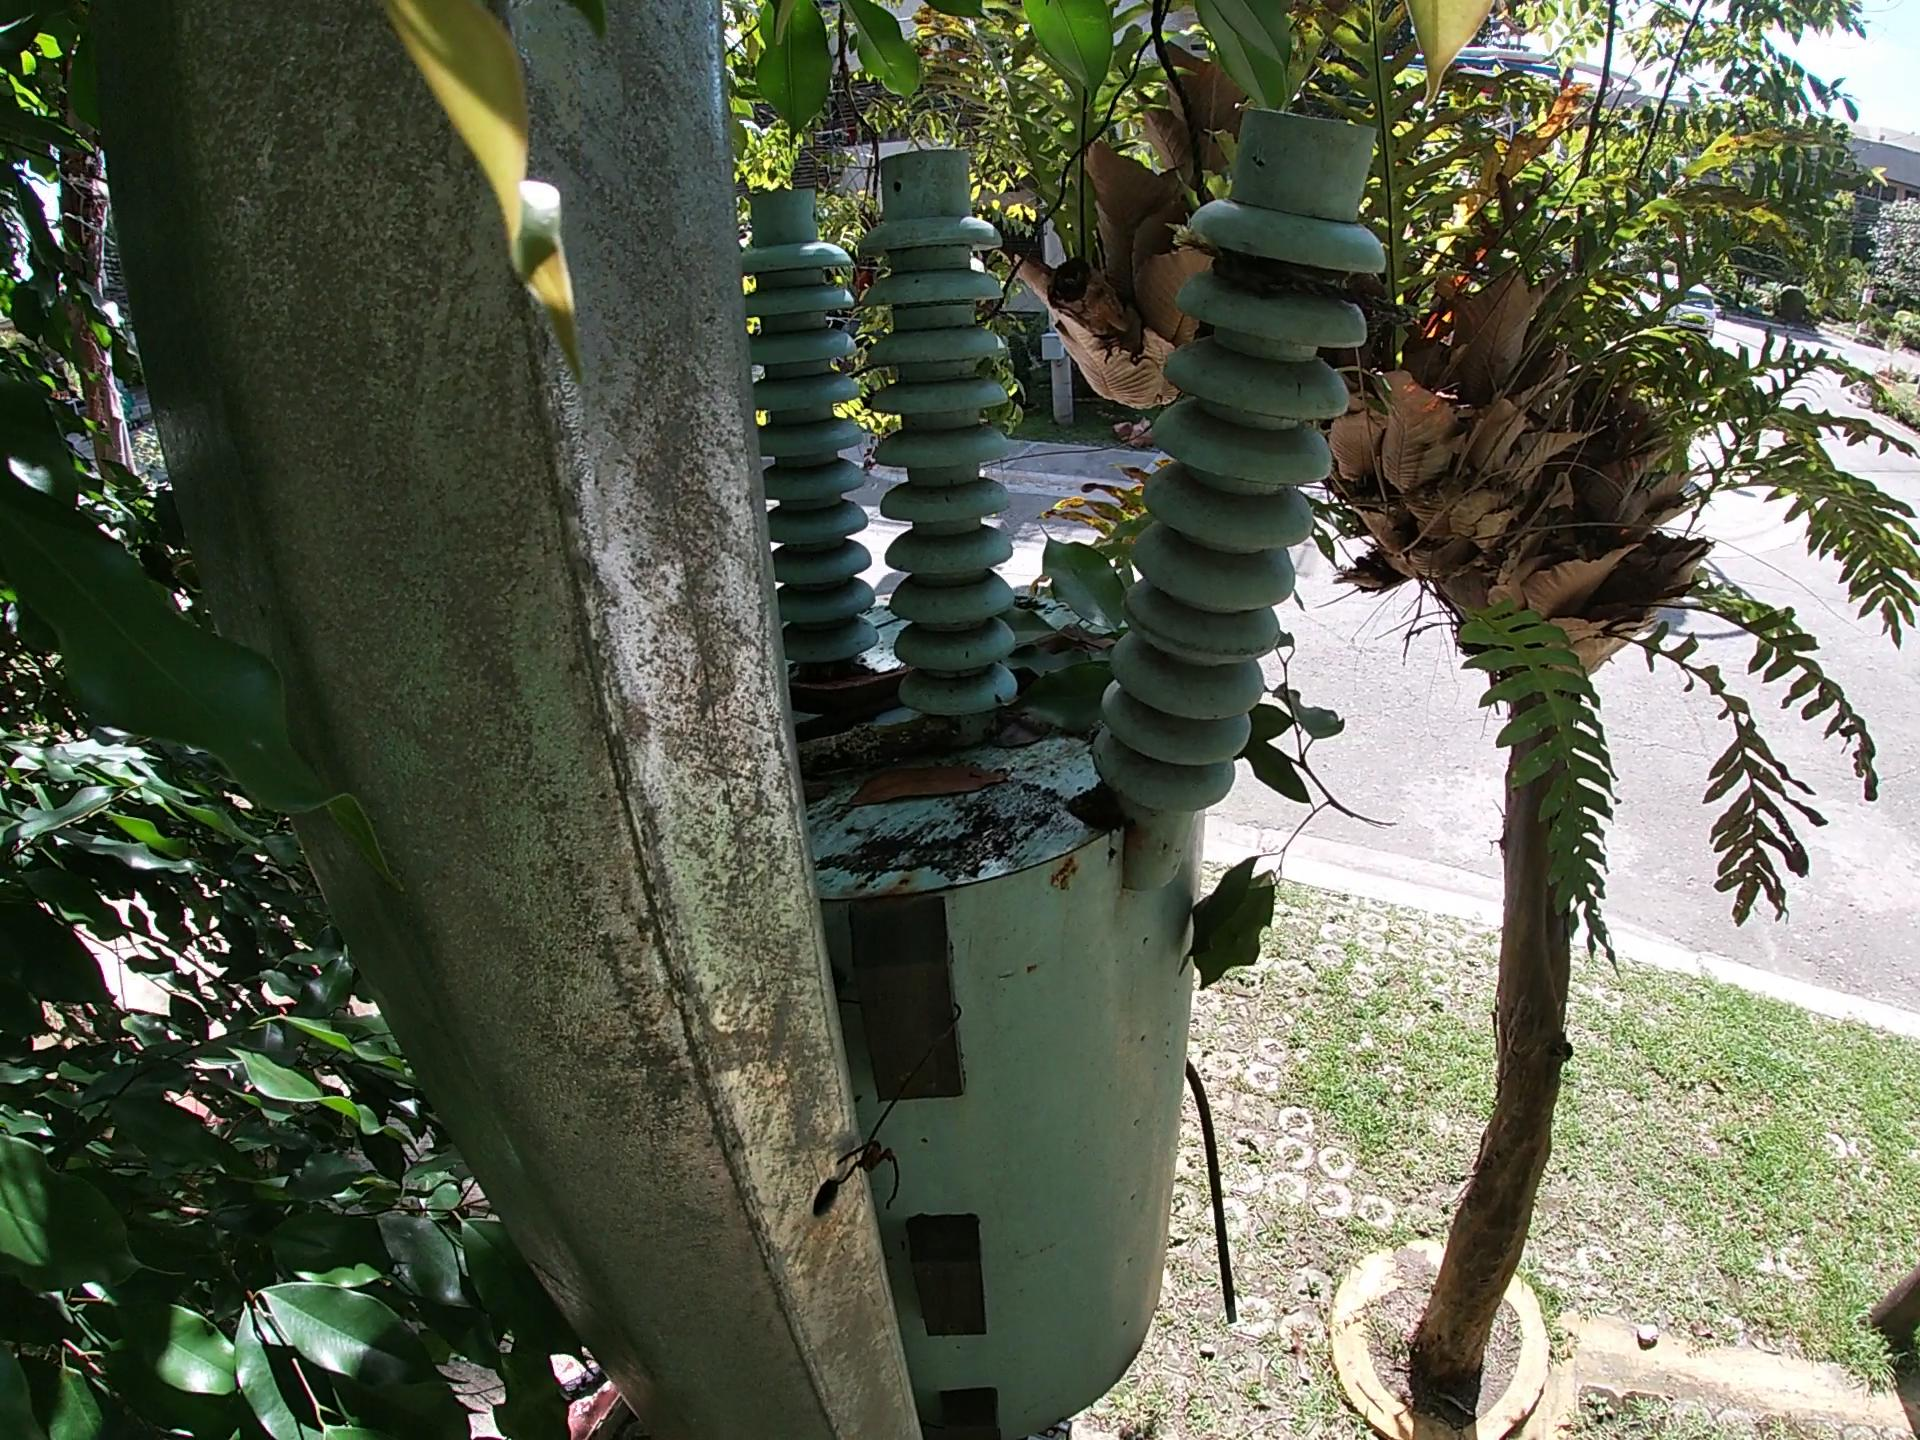branch with leaves: (1185, 635, 1370, 1026)
leaf: (1013, 513, 1138, 722), (828, 755, 1016, 803)
mahogany fruit: (771, 656, 912, 711)
tree branch: (788, 725, 971, 753)
